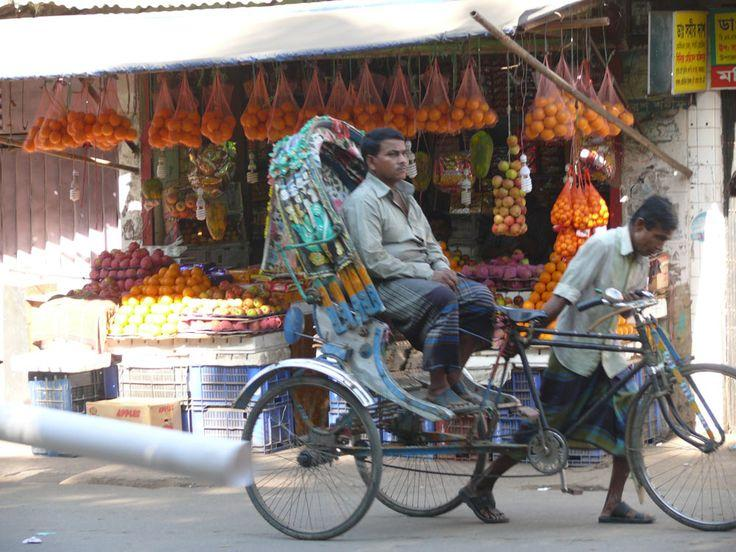Rickshaw: (234, 117, 735, 538)
